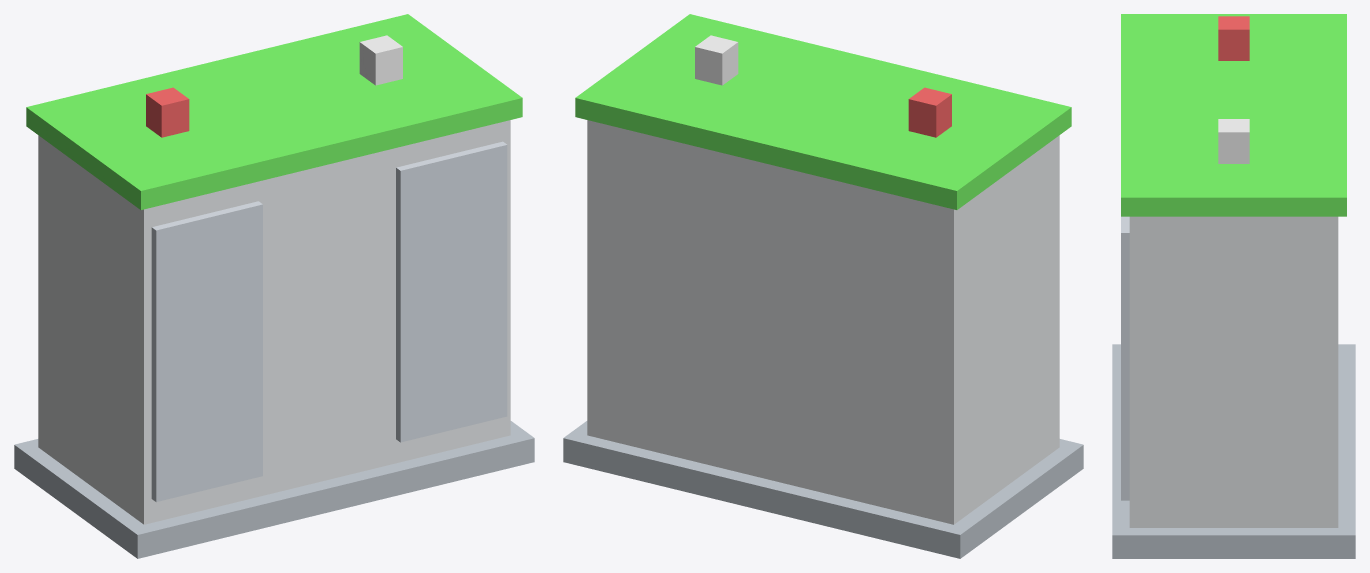
The model's file is battery.glb.
3 renders of one model, left to right at view 1: azimuth 30°, elevation 25°; view 2: azimuth 150°, elevation 25°; view 3: azimuth 270°, elevation 25°, orthographic.
Parts seen in each view (by area): view 1: cabinet, module_door (×2), lid, plinth, terminal_plus, terminal_minus; view 2: cabinet, lid, plinth, terminal_plus, terminal_minus; view 3: cabinet, lid, plinth, module_door, terminal_plus, terminal_minus.
Boxes of the visible parts, x1,y1,x2,y2 form: cabinet: [38, 120, 510, 524]; module_door (×2): [151, 141, 507, 501]; lid: [26, 14, 522, 209]; plinth: [14, 421, 534, 558]; terminal_plus: [146, 87, 189, 137]; terminal_minus: [359, 35, 402, 85]; cabinet: [587, 120, 1059, 524]; lid: [575, 14, 1071, 209]; plinth: [563, 421, 1083, 558]; terminal_plus: [908, 87, 951, 137]; terminal_minus: [695, 35, 738, 85]; cabinet: [1129, 216, 1338, 527]; lid: [1121, 14, 1346, 216]; plinth: [1112, 344, 1355, 558]; module_door: [1121, 216, 1129, 500]; terminal_plus: [1218, 16, 1249, 60]; terminal_minus: [1218, 119, 1249, 163].
Bounding box in the file's own units: 2.6 × 2.47 × 1.4.
